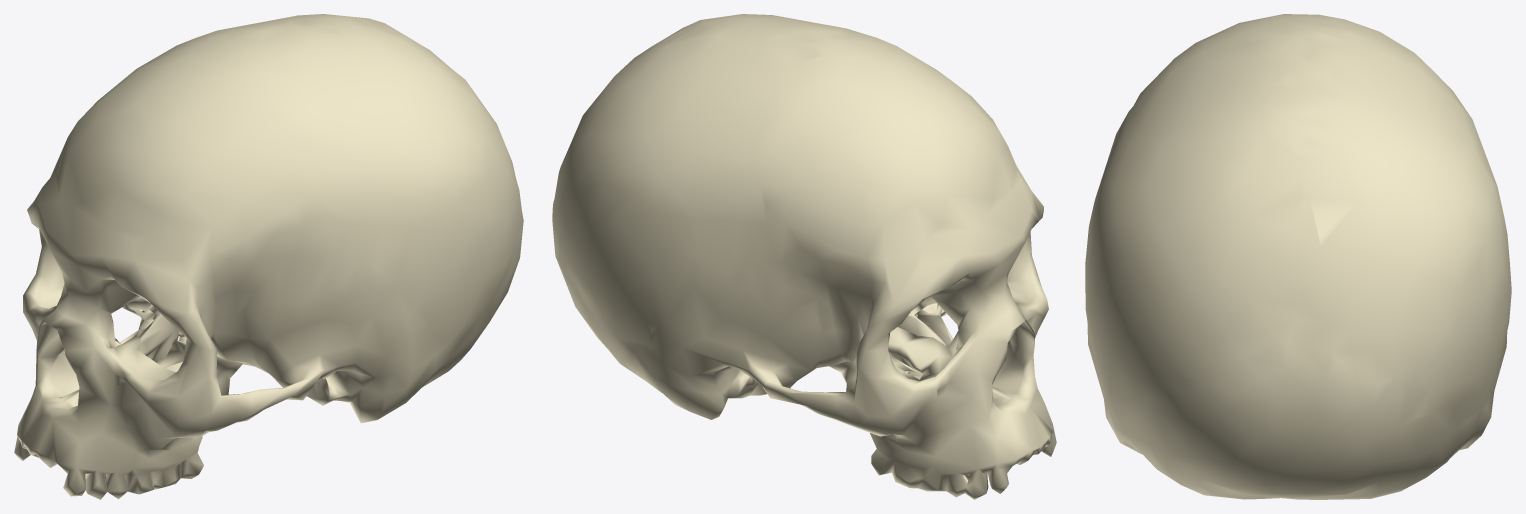
File: vLCA1.glb
3 views of the same model, side by side, from view 1: azimuth 30°, elevation 25°; view 2: azimuth 150°, elevation 25°; view 3: azimuth 270°, elevation 25° (orthographic). The views are drawn at different scales.
Parts seen in each view (by area): view 1: 41467_2019_11213_MOESM8_ESM.001; view 2: 41467_2019_11213_MOESM8_ESM.001; view 3: 41467_2019_11213_MOESM8_ESM.001.
Part boxes in pixels (<box>): 41467_2019_11213_MOESM8_ESM.001: <box>14,14,523,499</box>; 41467_2019_11213_MOESM8_ESM.001: <box>552,14,1056,499</box>; 41467_2019_11213_MOESM8_ESM.001: <box>1085,14,1511,499</box>.
Size of the model in its own units: 0.19 by 0.1518 by 0.1315.
